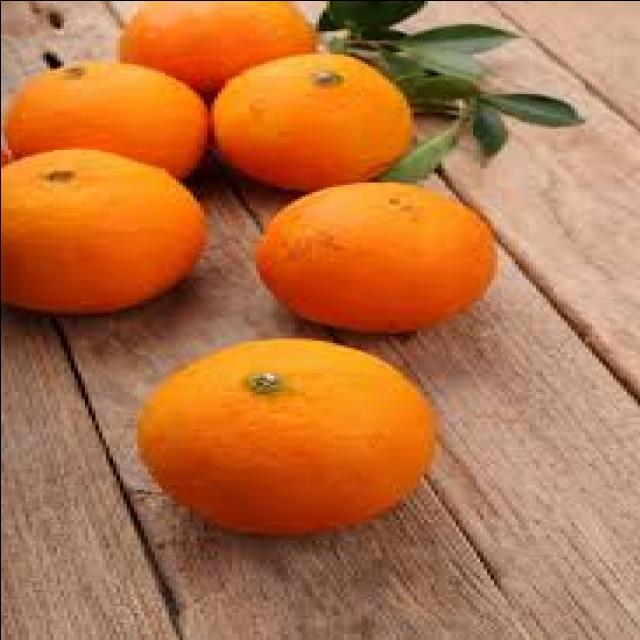orange: (128, 334, 434, 544), (240, 176, 500, 334), (0, 150, 205, 321)
